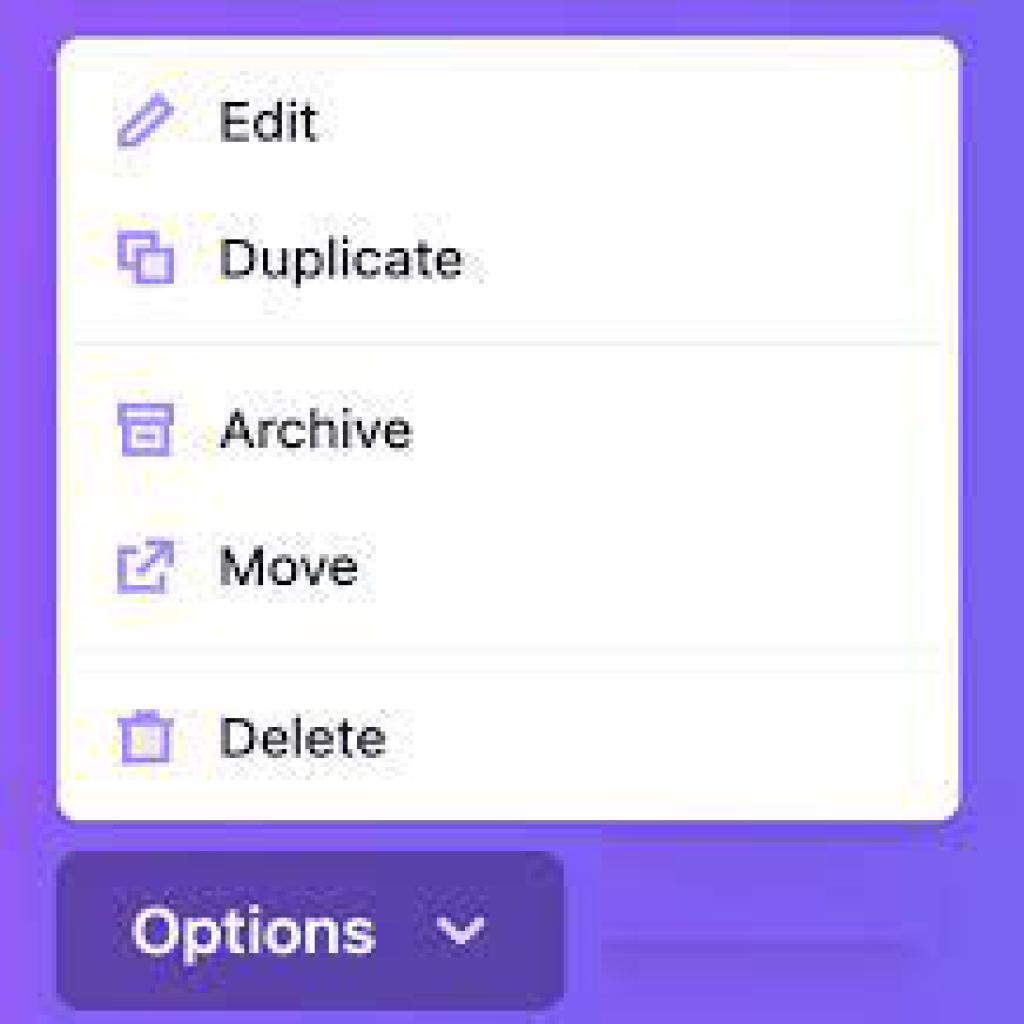dropdown: (61, 847, 568, 1008)
icon: (106, 221, 189, 313), (105, 89, 183, 168), (108, 394, 185, 468), (109, 533, 185, 601), (116, 707, 184, 777)
label: (217, 224, 466, 293), (220, 406, 418, 464), (219, 707, 404, 761), (221, 540, 358, 600), (214, 94, 330, 146)
